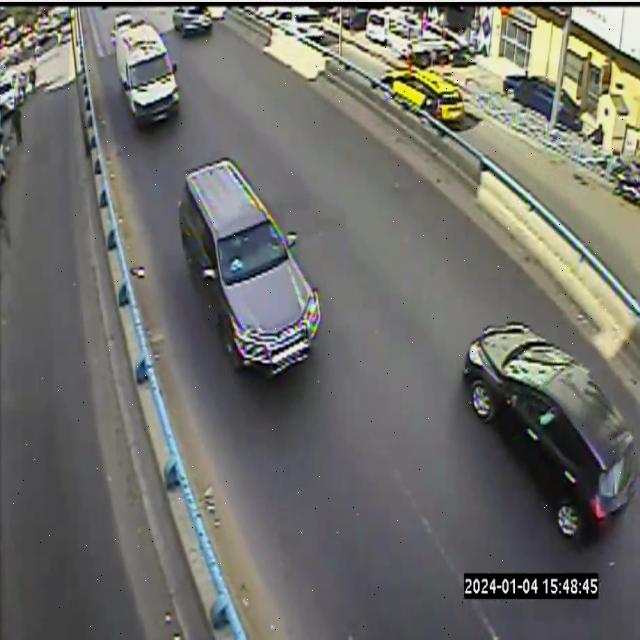car: (463, 325, 639, 539), (179, 158, 321, 376), (115, 19, 179, 125), (381, 68, 464, 124), (173, 5, 213, 37)
